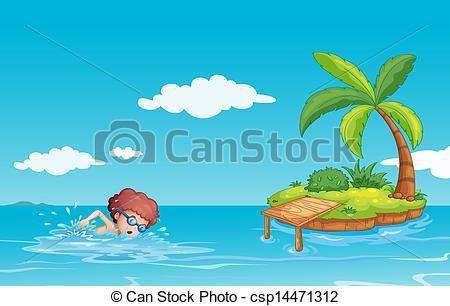person: (76, 186, 160, 249)
